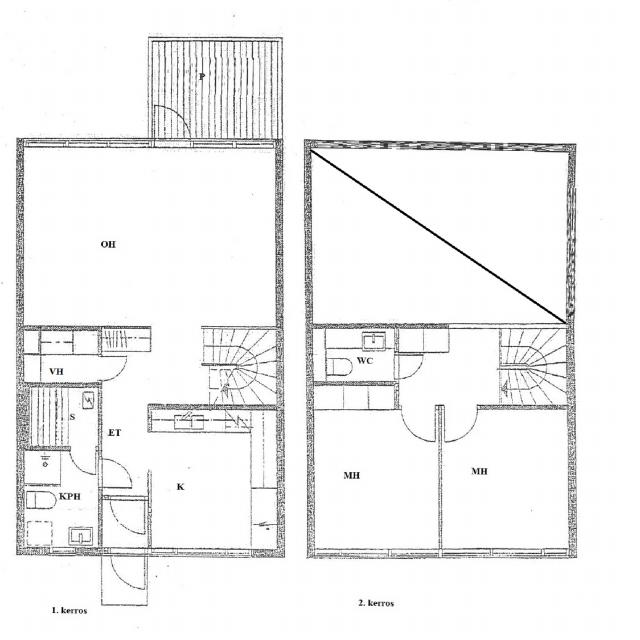door: (154, 104, 190, 148), (111, 548, 145, 588), (110, 495, 144, 532), (402, 404, 434, 441), (444, 405, 477, 440), (97, 459, 131, 487), (393, 355, 424, 379), (70, 446, 96, 474), (97, 357, 127, 380)
